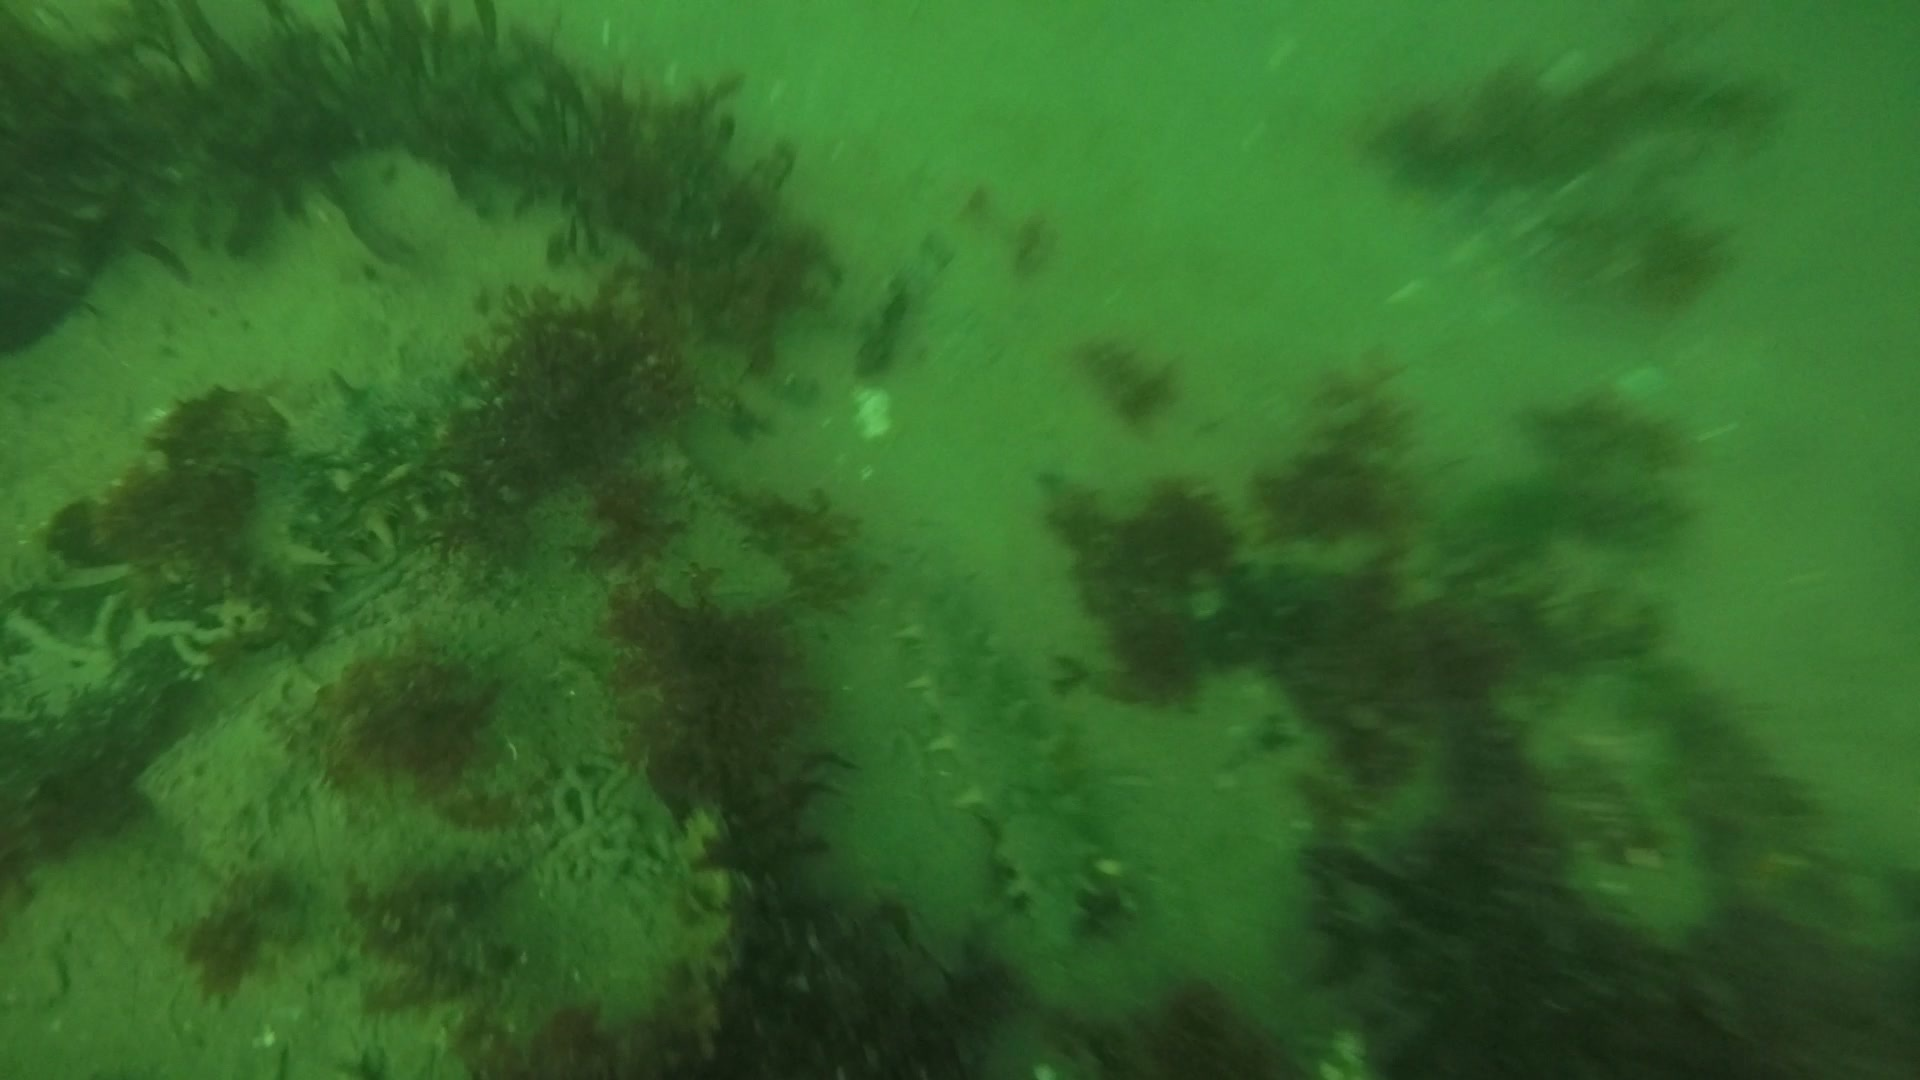holothurian: (895, 576, 1120, 948), (220, 365, 454, 649)
